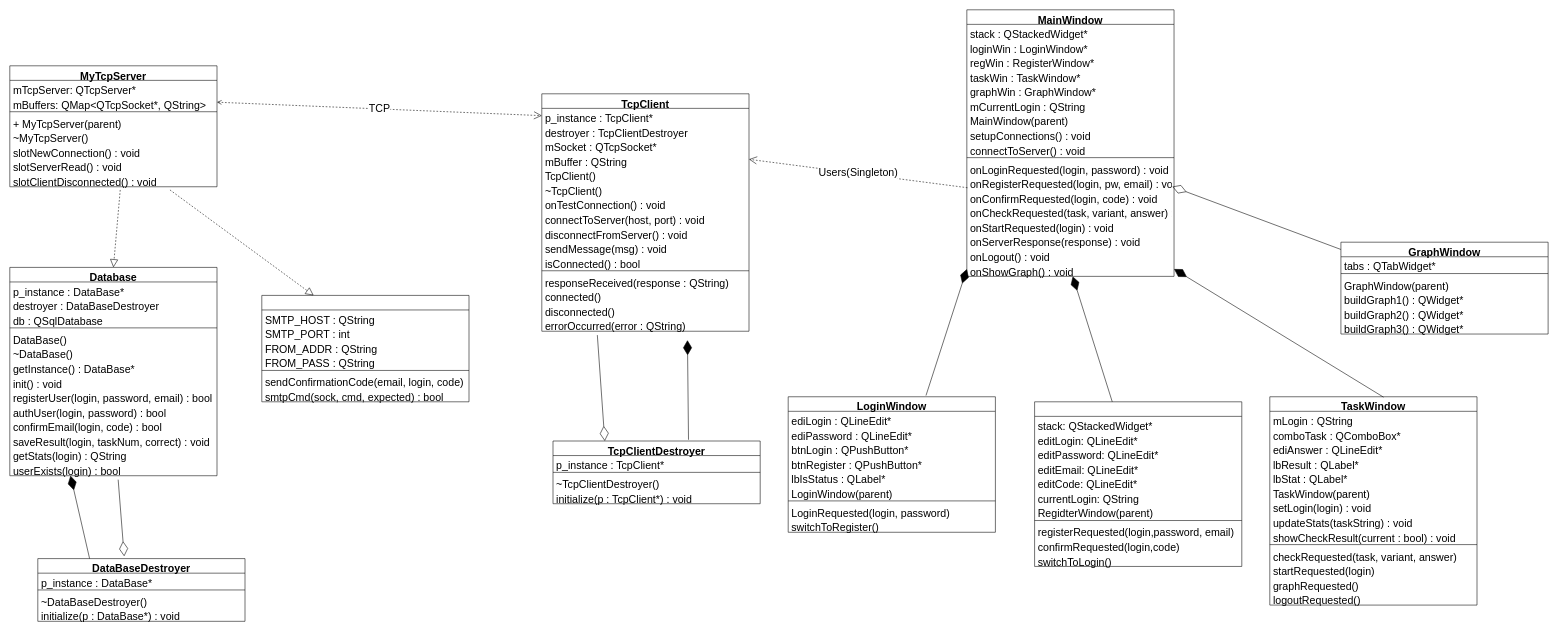
Some shapes in this 1558 by 633 pixel diagram are drawn without their labels. The shapes that lost their labels are listed below. From the top down, each one's box as (x1, y1, x2, y2) in pixels, then its label:
(261, 295, 469, 402): EmailSender
(1034, 401, 1242, 566): RegisterWindow
